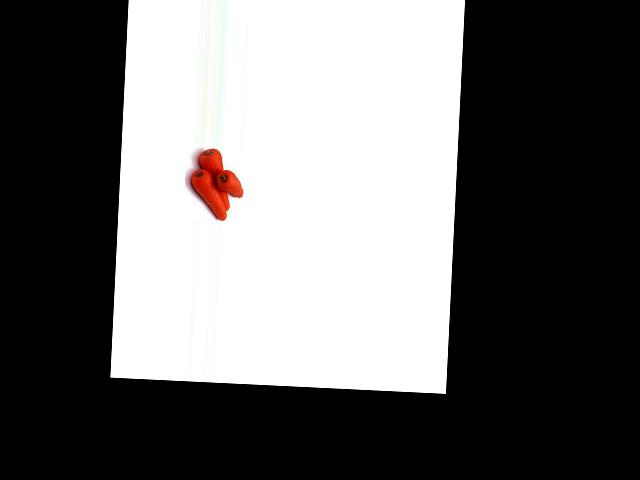carrot: (194, 148, 231, 212)
